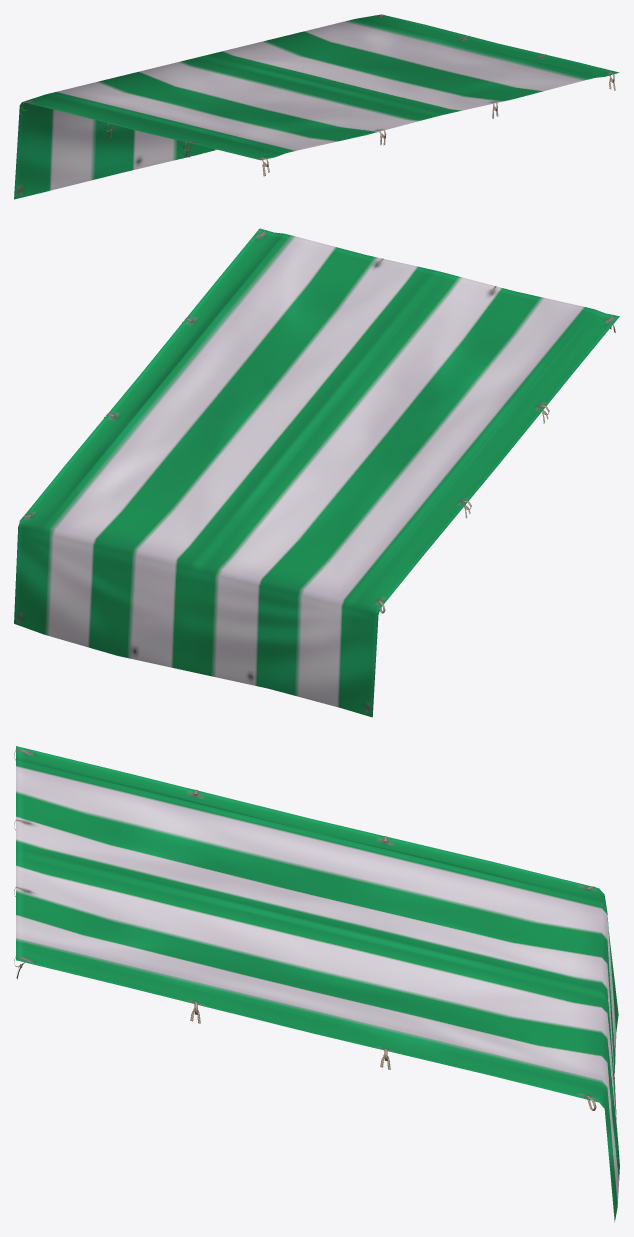
The model's file is jsf_Ceiling_s01_c04_t01.fbx.
The picture shows the model from 3 angles, top to bottom: view 1: azimuth 30°, elevation 25°; view 2: azimuth 150°, elevation 25°; view 3: azimuth 270°, elevation 25°; orthographic projection. The views are drawn at different scales.
Parts seen in each view (by area): view 1: jsf_Ceiling_s01_c04_t01; view 2: jsf_Ceiling_s01_c04_t01; view 3: jsf_Ceiling_s01_c04_t01.
Boxes of the visible parts, x1,y1,x2,y2 form: jsf_Ceiling_s01_c04_t01: (14, 14, 619, 199); jsf_Ceiling_s01_c04_t01: (14, 228, 619, 717); jsf_Ceiling_s01_c04_t01: (14, 746, 619, 1222).
Bounding box in the file's own units: 184 × 106 × 216.
